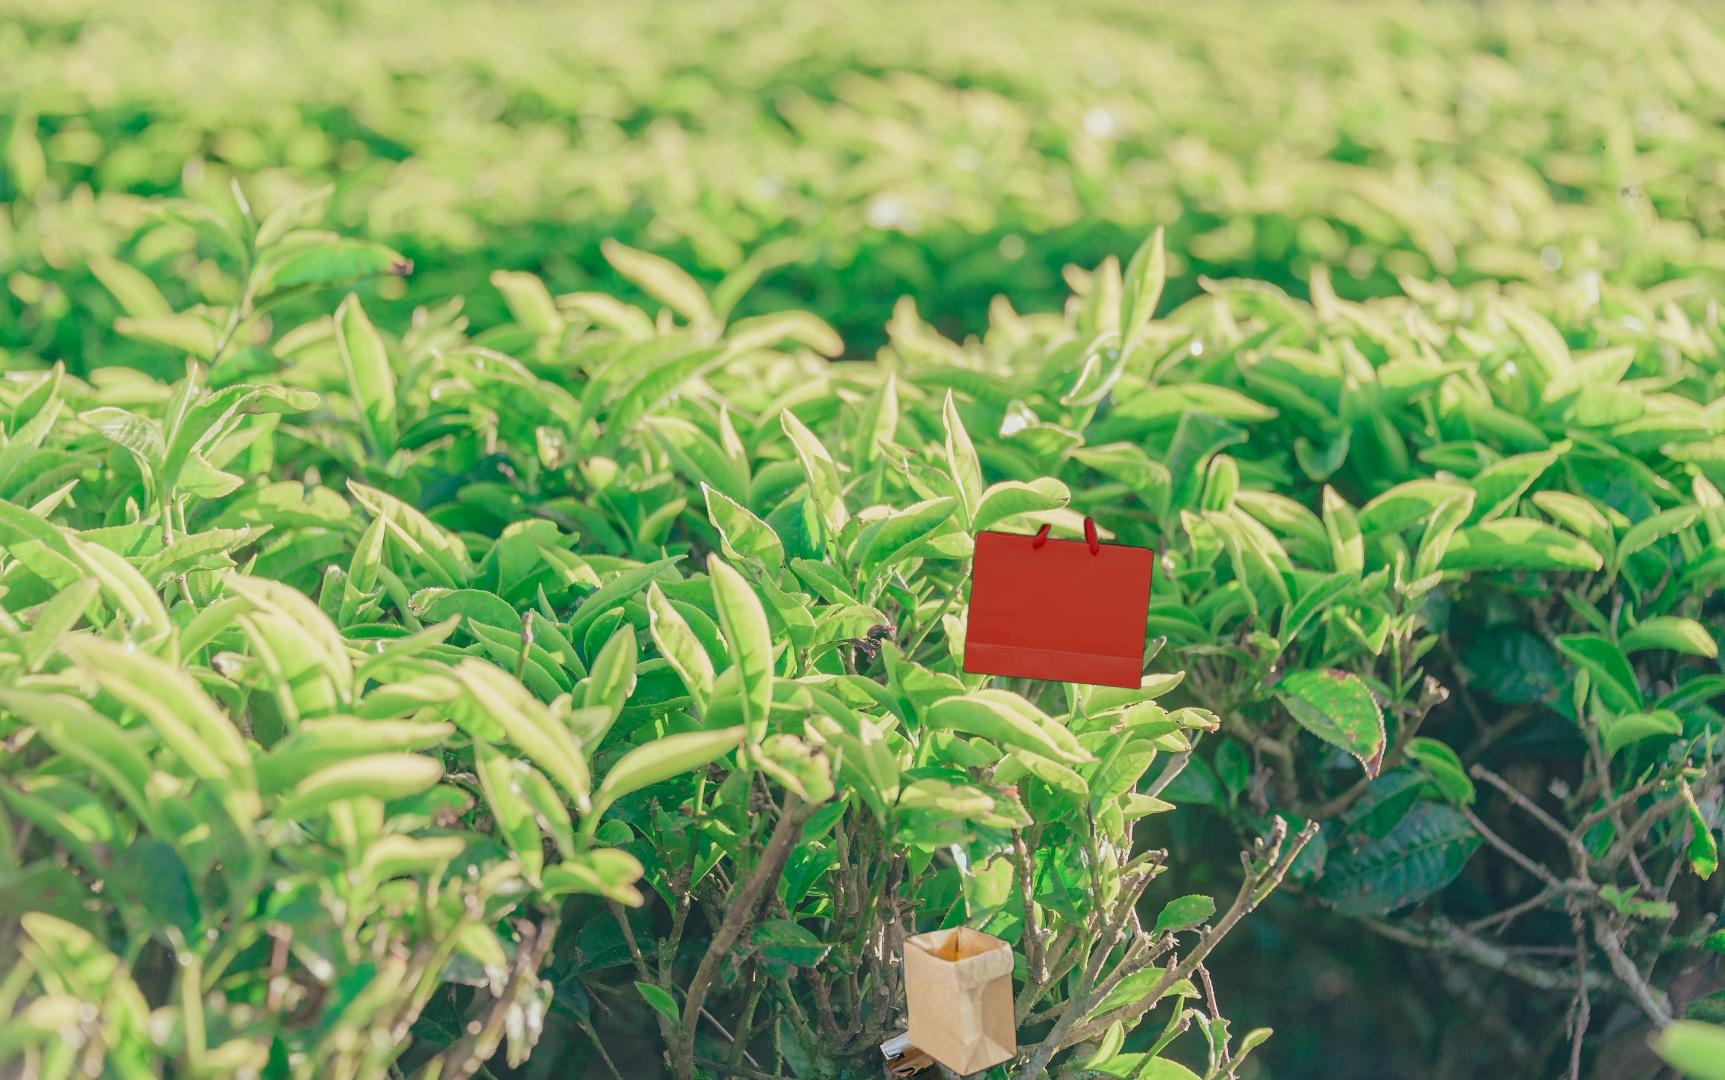paper-bag: (960, 514, 1157, 692), (876, 923, 1019, 1080)
trashbox-cardboard: (1573, 92, 1725, 240)
